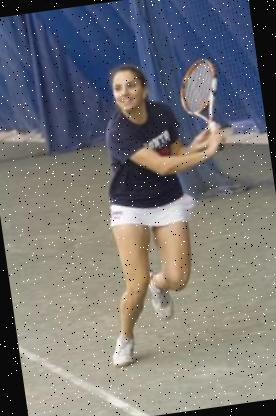person: (56, 39, 232, 380)
